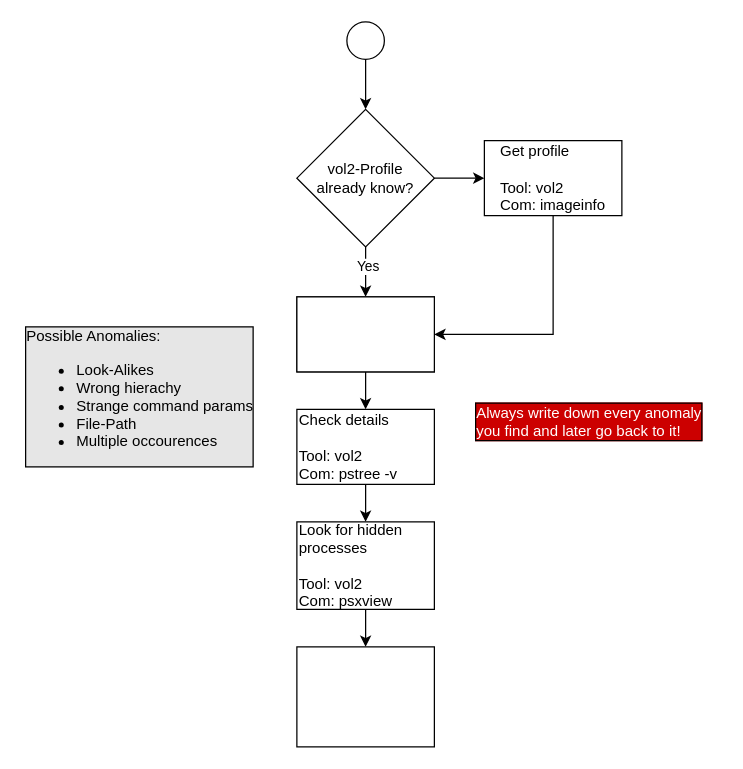
The diagram is 743 pixels wide and 769 high, and some of its shapes have lost their labels. The centre of each missing label's shape, as x and y in pixels:
Check for memory injections Tool: vol2 Com: malfind: (365,696)
Get basic overview Tool: vol2 Com: pstree: (365,334)
